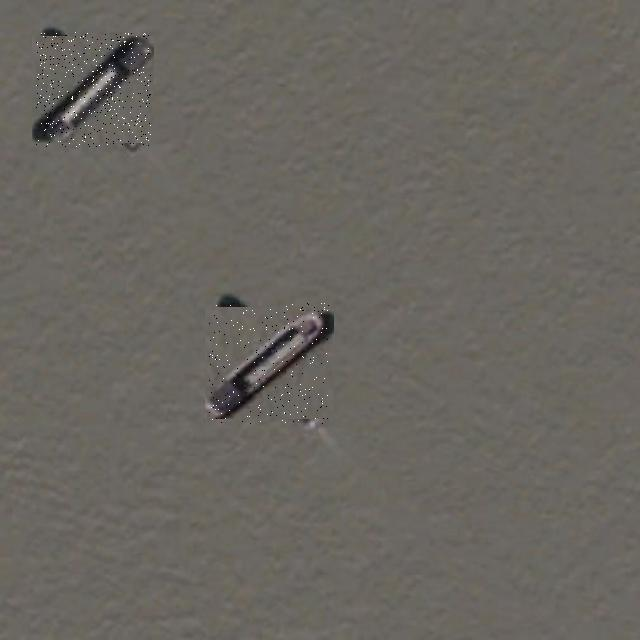boat: (209, 303, 329, 424), (36, 32, 151, 147)
